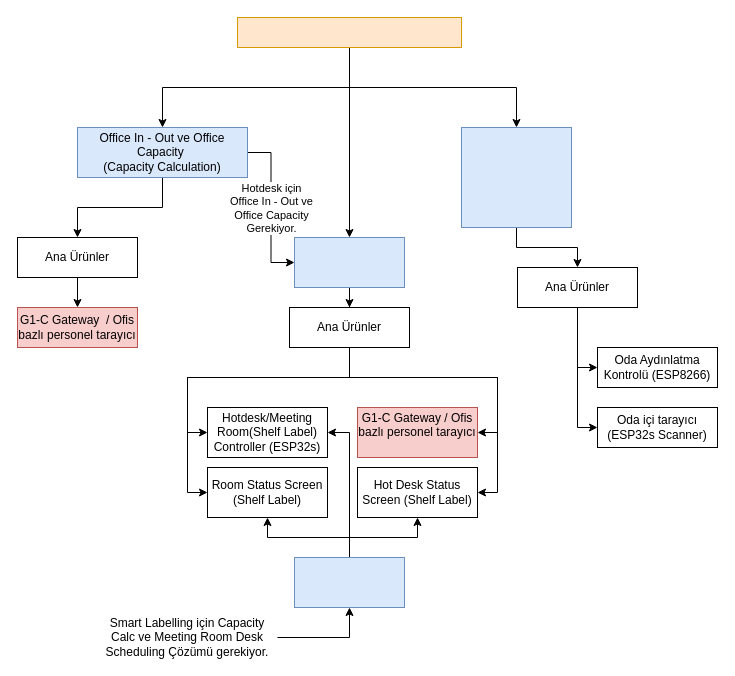
This 735x676 diagram has some shape labels left out. The box of each missing label's shape, as (x1, y1, x2, y2) in pixels:
Borda Çözümleri HWD Bazlı: (236, 16, 462, 48)
Capacity Calculation Per Room (Capacity Calculation and Person Limit per m^2): (460, 126, 572, 228)
HotDesk (Meeting Room Desk Scheduling): (294, 236, 404, 288)
Smart Labelling??: (294, 556, 404, 608)
